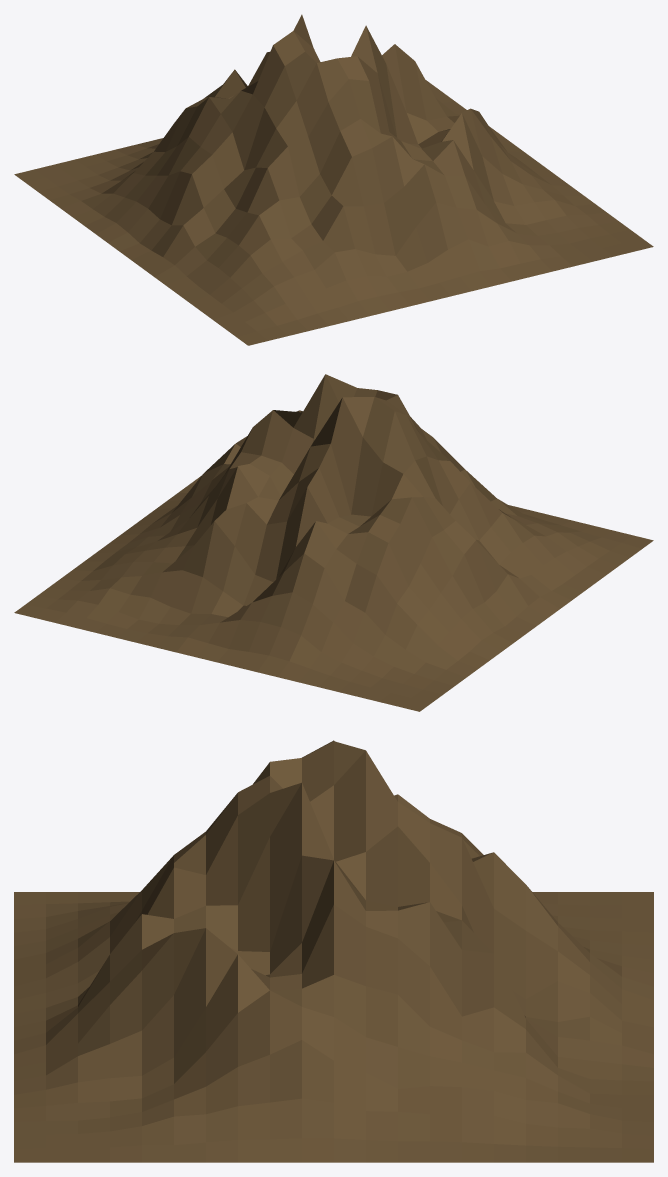
File: mountain.dae
The picture shows the model from 3 angles, top to bottom: view 1: azimuth 30°, elevation 25°; view 2: azimuth 150°, elevation 25°; view 3: azimuth 270°, elevation 25°; orthographic projection. The views are drawn at different scales.
Visible parts, largest first — view 1: Landscape; view 2: Landscape; view 3: Landscape.
Part boxes in pixels (x1,y1,x2,y2): Landscape: [14, 14, 653, 345]; Landscape: [14, 374, 653, 711]; Landscape: [14, 740, 653, 1162].
Bounding box in the file's own units: 600 × 273 × 600.
